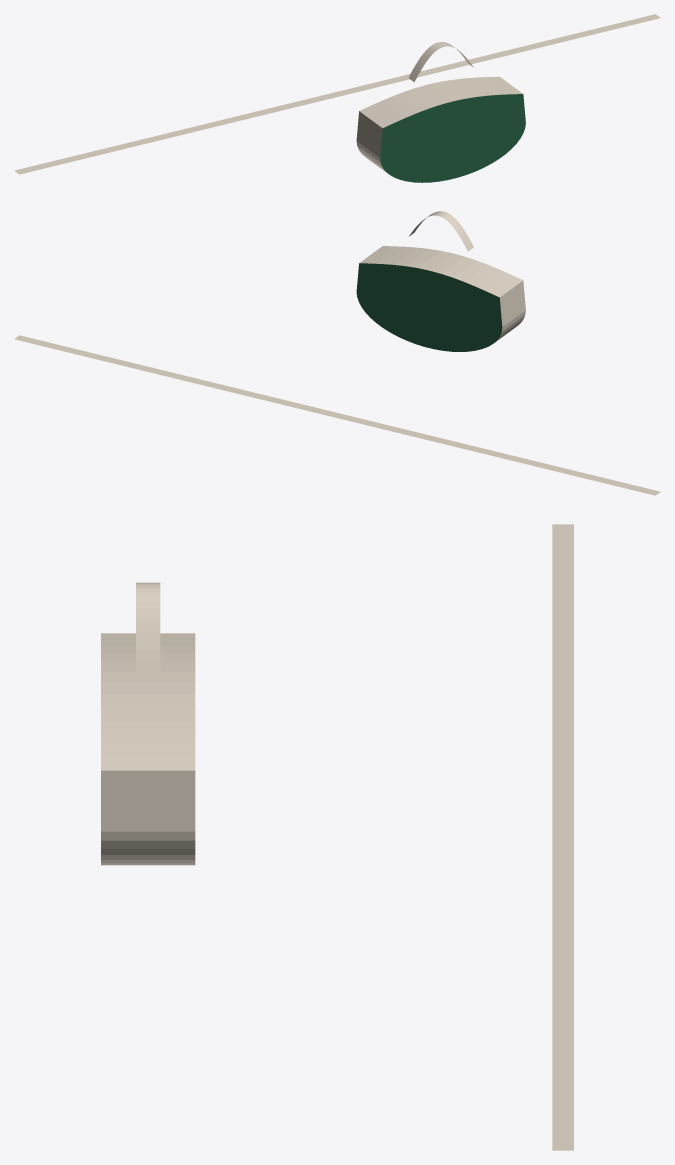
Rendered from belle-isle_prepped.glb.
3 views of the same model, one above another, from view 1: azimuth 30°, elevation 25°; view 2: azimuth 150°, elevation 25°; view 3: azimuth 270°, elevation 25° (orthographic). The views are drawn at different scales.
Visible parts, largest first — view 1: CrescentBody, CrossbodyStrap, ShoulderStrap; view 2: CrescentBody, CrossbodyStrap, ShoulderStrap; view 3: CrescentBody, CrossbodyStrap, ShoulderStrap.
Part boxes in pixels (x1,y1,x2,y2): CrescentBody: [356, 76, 525, 182]; CrossbodyStrap: [14, 14, 660, 174]; ShoulderStrap: [408, 42, 473, 82]; CrescentBody: [356, 246, 525, 351]; CrossbodyStrap: [14, 335, 660, 495]; ShoulderStrap: [409, 211, 473, 251]; CrescentBody: [101, 633, 195, 865]; CrossbodyStrap: [552, 524, 573, 1150]; ShoulderStrap: [136, 582, 160, 671].
Bounding box in the file's own units: 1.1 × 0.2061 × 0.3512.
